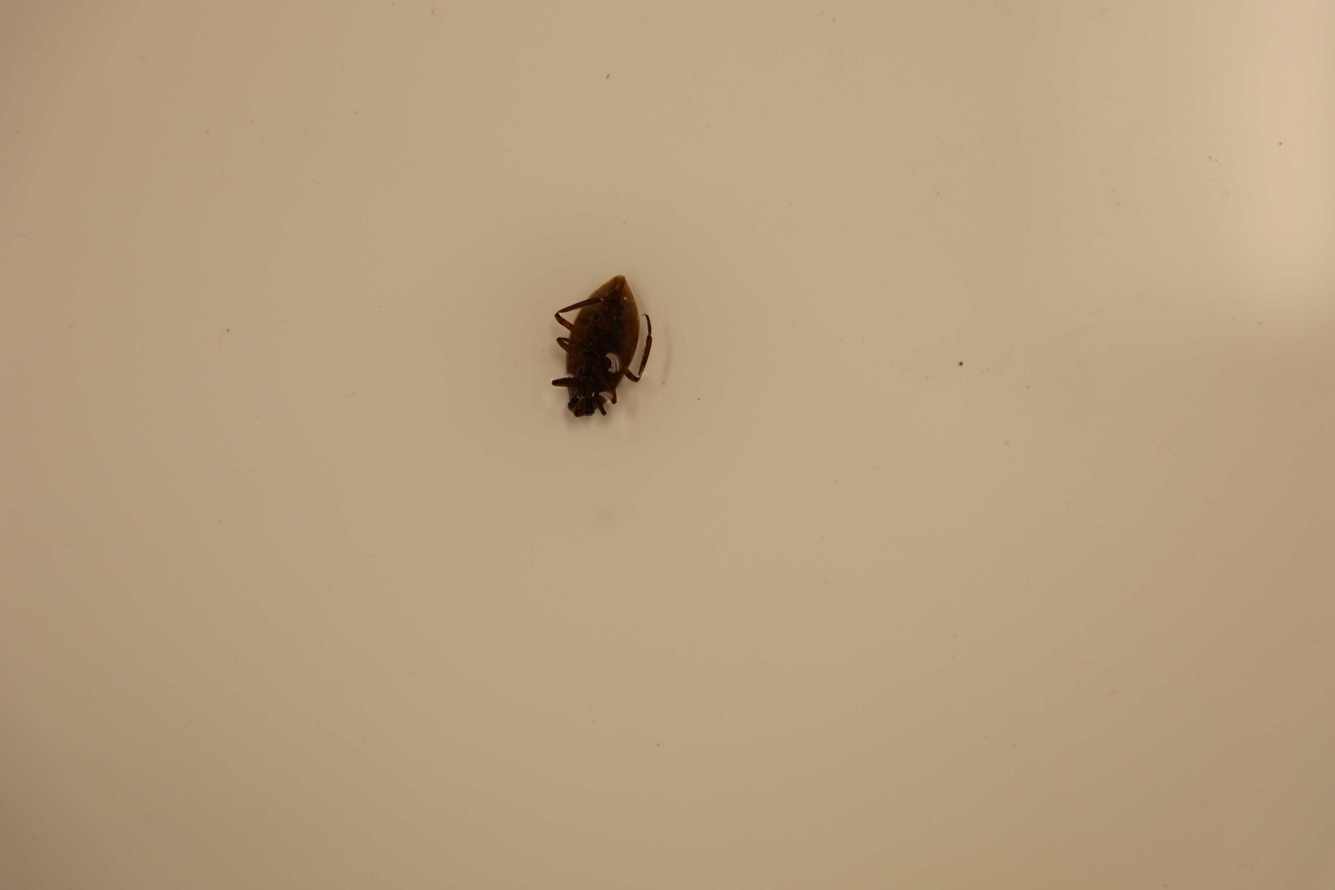Other: (552, 269, 651, 418)
